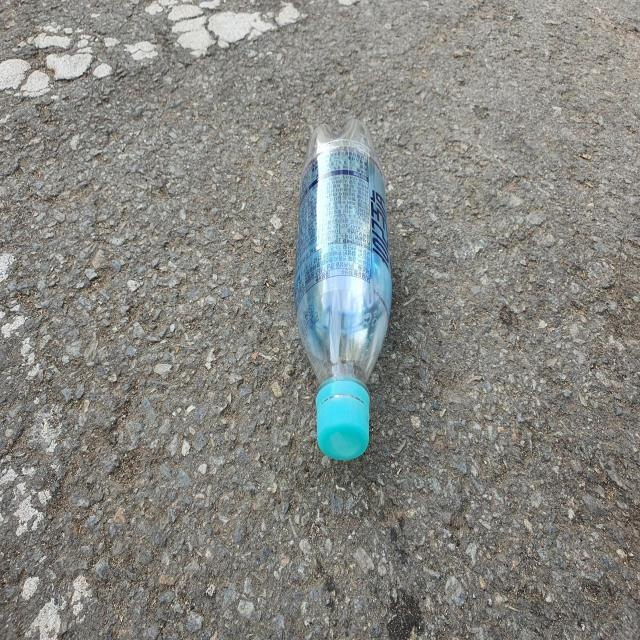plastic: (294, 118, 392, 460)
